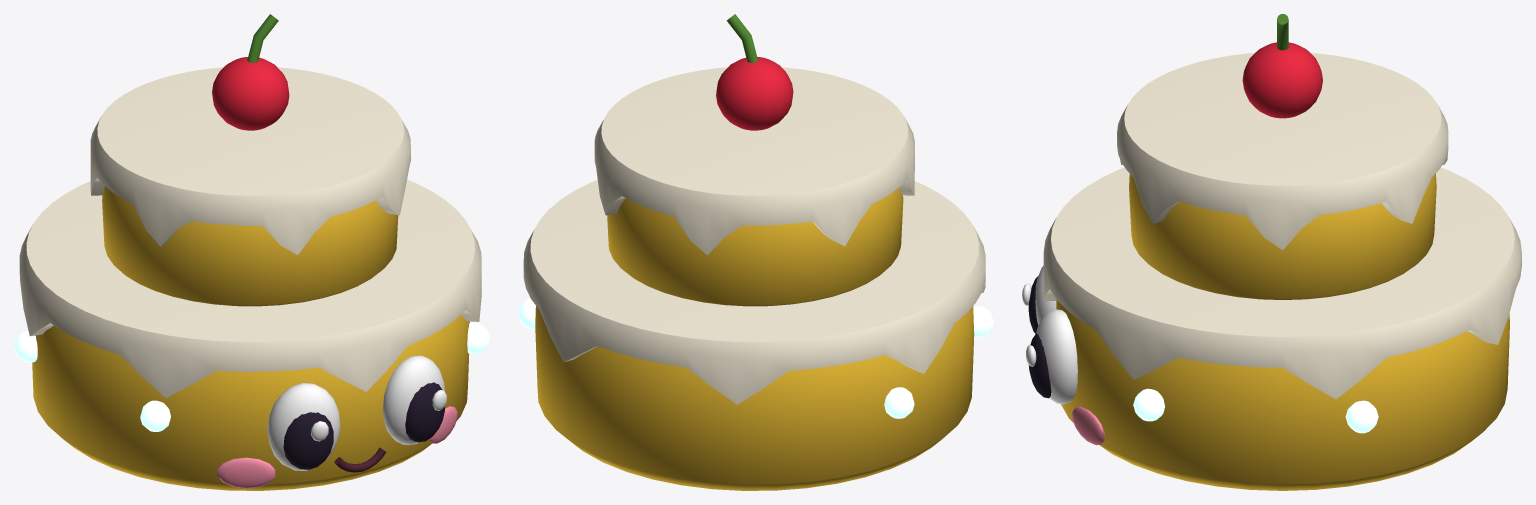
The model's file is GoldenCake.fbx.
The picture shows the model from 3 angles, left to right: view 1: azimuth 30°, elevation 25°; view 2: azimuth 150°, elevation 25°; view 3: azimuth 270°, elevation 25°; orthographic projection. The views are drawn at different scales.
Visible parts, largest first — view 1: Icing_FFF6E0, Cake_F2C230_Foil, Eyes_FFFFFF, Cherry_E8213A, Pupils_241B2F, Gems_7FE3FF_Neon, Blush_FF8FAB, CherryStem_4E8A2E, Shine_FFFFFF_Neon; view 2: Icing_FFF6E0, Cake_F2C230_Foil, Cherry_E8213A, Gems_7FE3FF_Neon, CherryStem_4E8A2E; view 3: Icing_FFF6E0, Cake_F2C230_Foil, Cherry_E8213A, Eyes_FFFFFF, Gems_7FE3FF_Neon, Pupils_241B2F, Blush_FF8FAB.
Boxes of the visible parts, x1,y1,x2,y2 form: Icing_FFF6E0: (19,67,481,398); Cake_F2C230_Foil: (32,186,469,490); Eyes_FFFFFF: (267,355,444,470); Cherry_E8213A: (212,57,289,130); Pupils_241B2F: (283,382,444,469); Gems_7FE3FF_Neon: (14,322,489,431); Blush_FF8FAB: (217,406,457,488); CherryStem_4E8A2E: (247,14,278,62); Shine_FFFFFF_Neon: (311,390,446,441); Icing_FFF6E0: (523,67,985,404); Cake_F2C230_Foil: (535,187,974,490); Cherry_E8213A: (716,57,793,130); Gems_7FE3FF_Neon: (518,298,993,418); CherryStem_4E8A2E: (726,14,758,62); Icing_FFF6E0: (1043,53,1521,399); Cake_F2C230_Foil: (1056,173,1509,490); Cherry_E8213A: (1242,42,1322,118); Eyes_FFFFFF: (1035,265,1077,404); Gems_7FE3FF_Neon: (1133,388,1378,433); Pupils_241B2F: (1028,276,1051,398); Blush_FF8FAB: (1072,406,1104,445).
Bounding box in the file's own units: 2.02 × 1.86 × 2.11.
